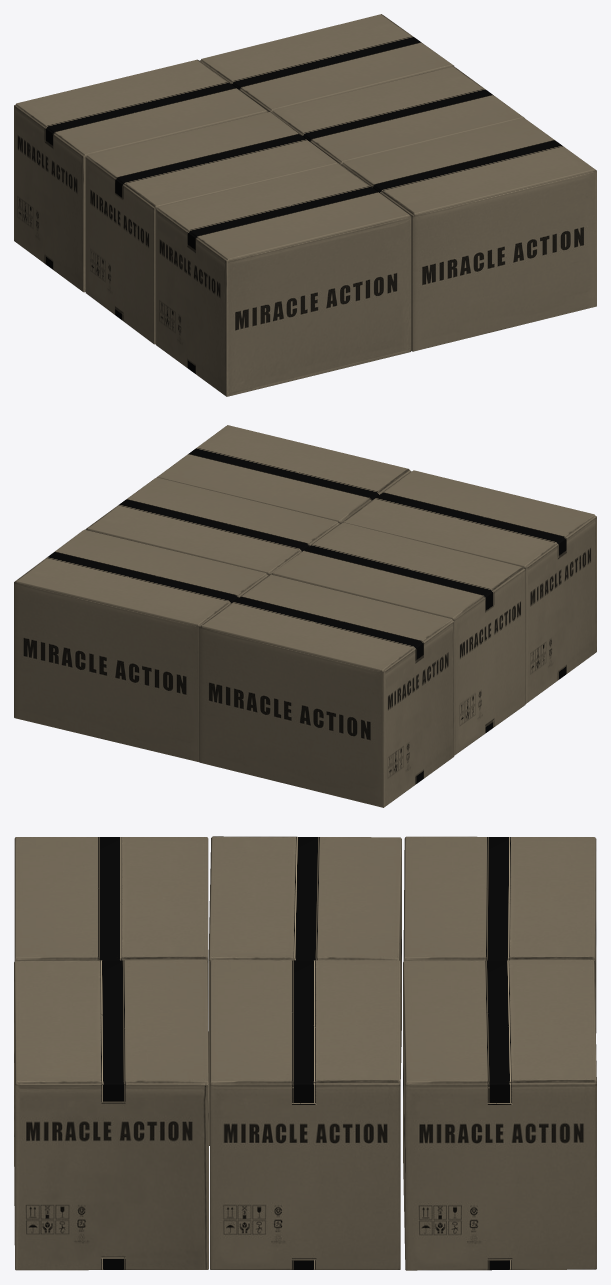
File: Cardboard_C3.glb
The picture shows the model from 3 angles, top to bottom: view 1: azimuth 30°, elevation 25°; view 2: azimuth 150°, elevation 25°; view 3: azimuth 270°, elevation 25°; orthographic projection. The views are drawn at different scales.
Parts seen in each view (by area): view 1: Cardboard_C; view 2: Cardboard_C; view 3: Cardboard_C.
Boxes of the visible parts, x1,y1,x2,y2 form: Cardboard_C: (14, 14, 596, 396); Cardboard_C: (14, 425, 596, 807); Cardboard_C: (14, 836, 596, 1270).
Size of the model in its own units: 1.05 by 0.3711 by 1.04.
1 material, 1 textured.
